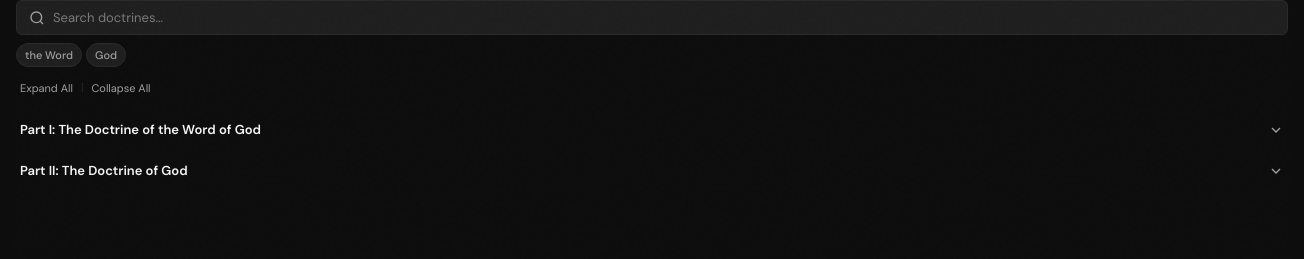
Test case: SystematicTree › part expansion › collapses part on second click
Click the button "Part I: The Doctrine of the Word of God": (140, 130) [12,109,1292,150]
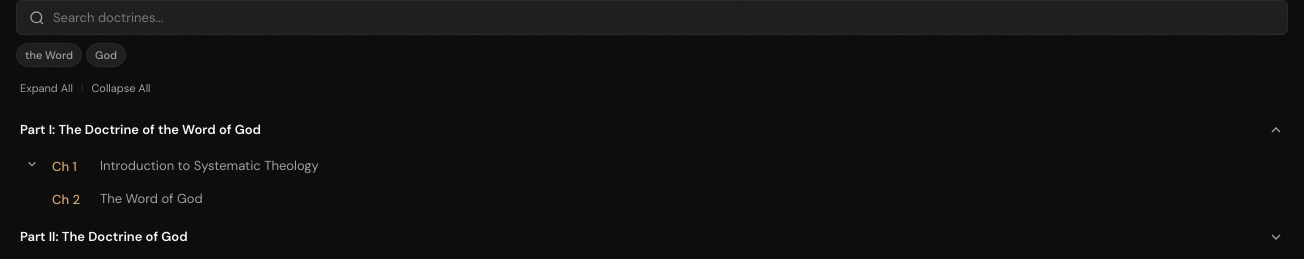
expect the text "Introduction to Systematic Theology" is shown: met, box [100,157,319,174]
Click the button "Part I: The Doctrine of the Word of God": (140, 130) [12,109,1292,150]
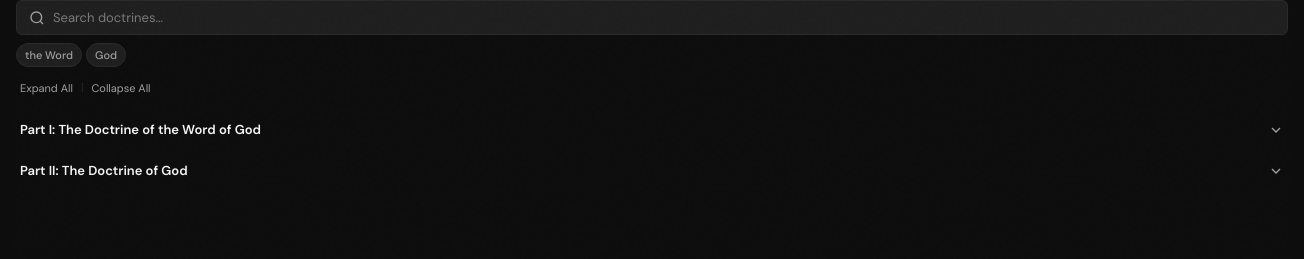
expect the button "Introduction to Systematic Theology" is gone: met
